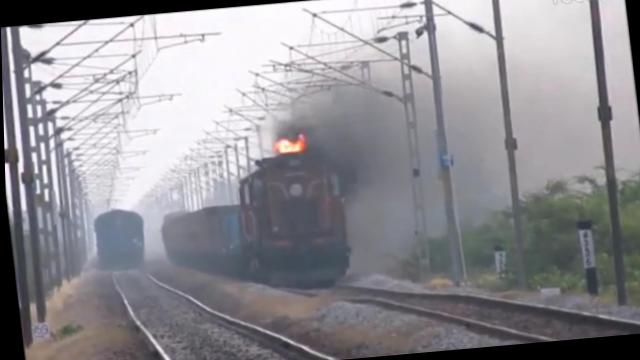fire: (276, 135, 305, 155)
